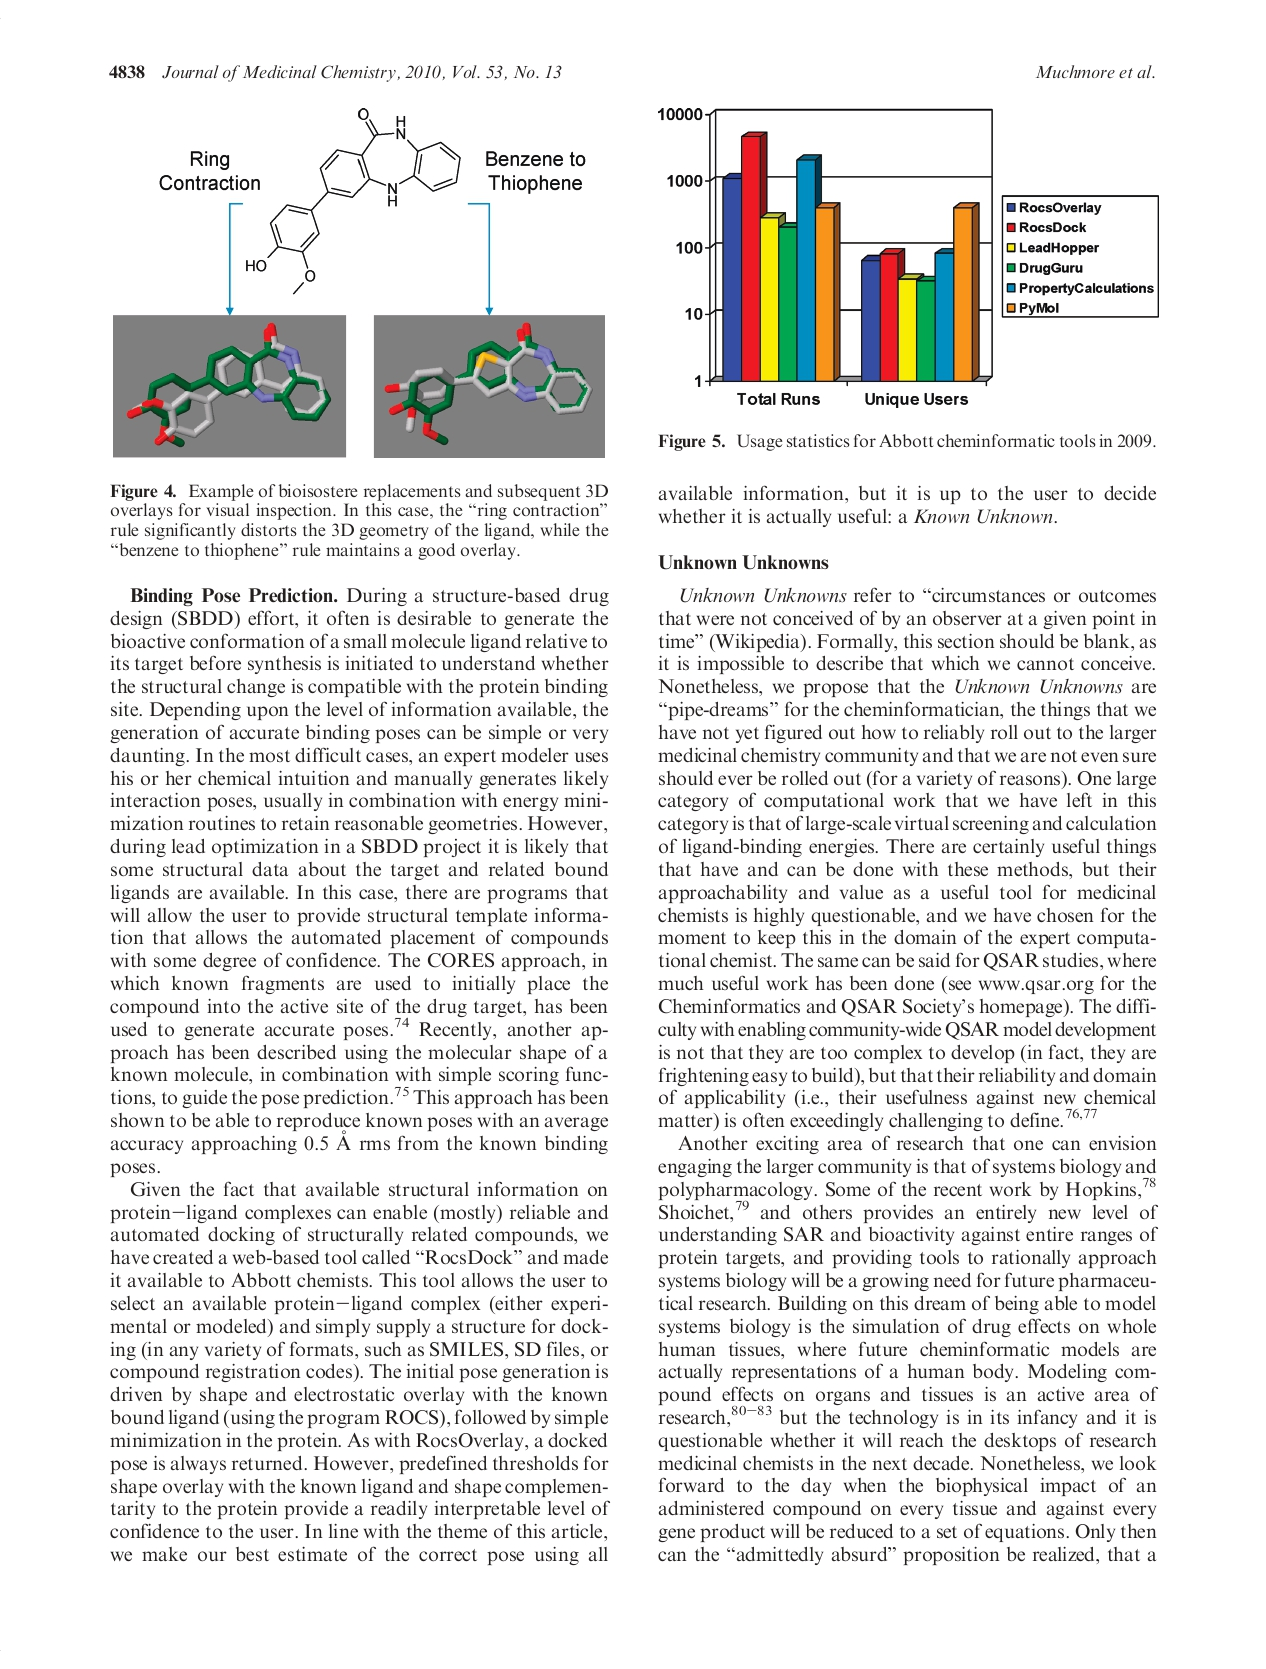exist_molecular: (243, 105, 464, 286)
